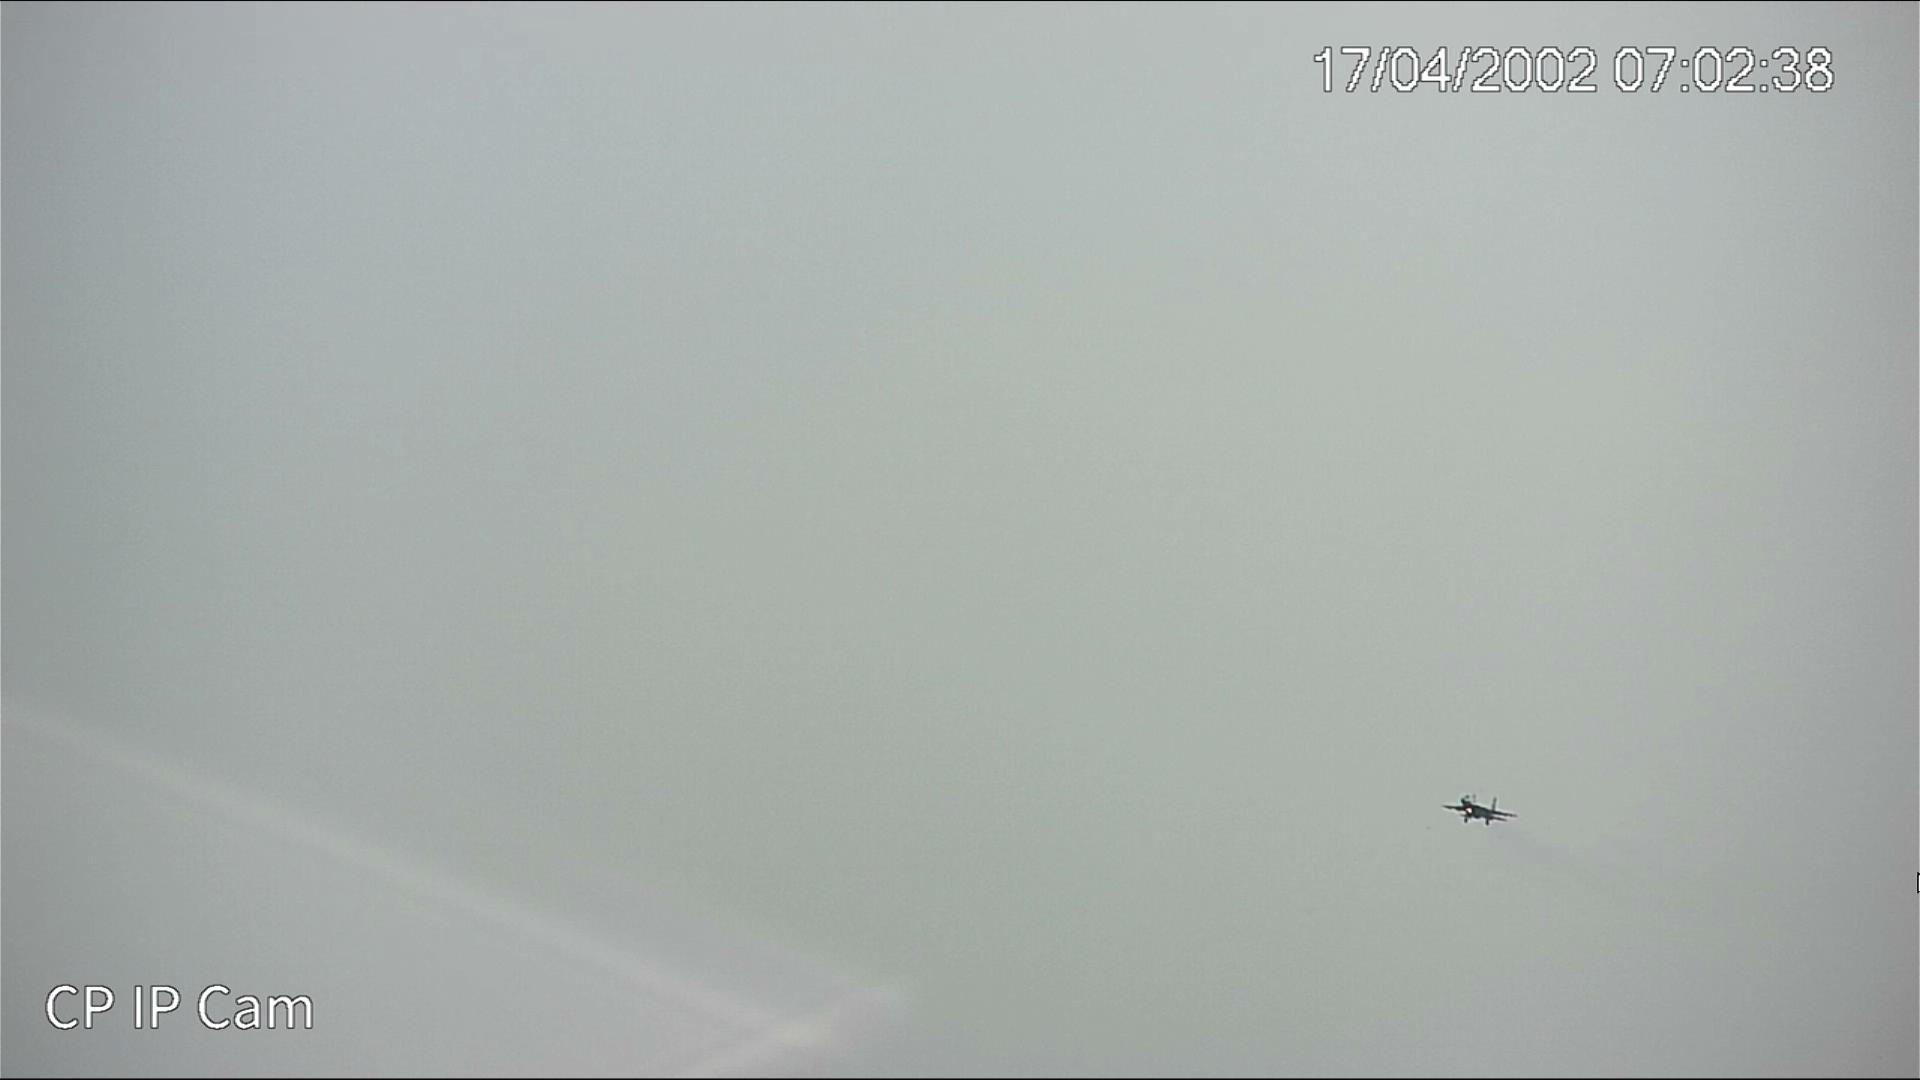SU_30: (1447, 790, 1516, 829)
